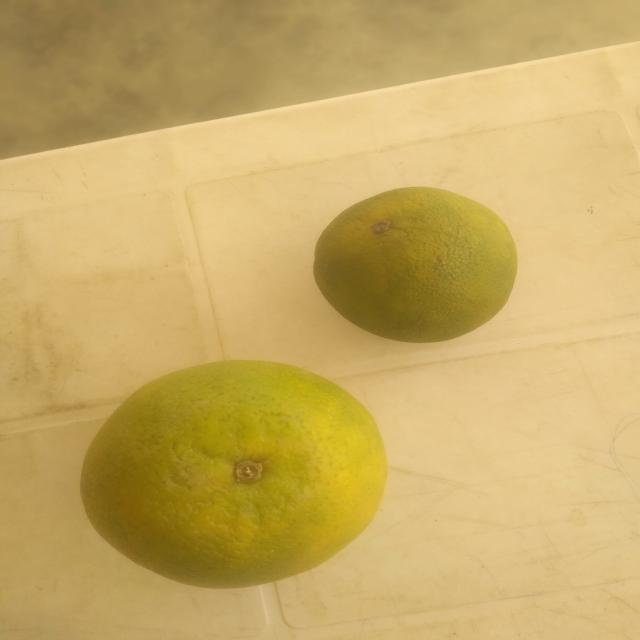Unripe: (68, 355, 395, 588), (295, 178, 523, 353)
